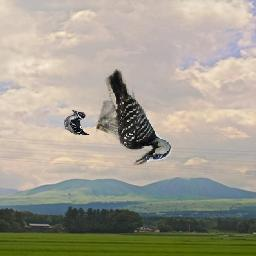Woodpecker: (96, 69, 172, 165), (64, 111, 92, 136)
